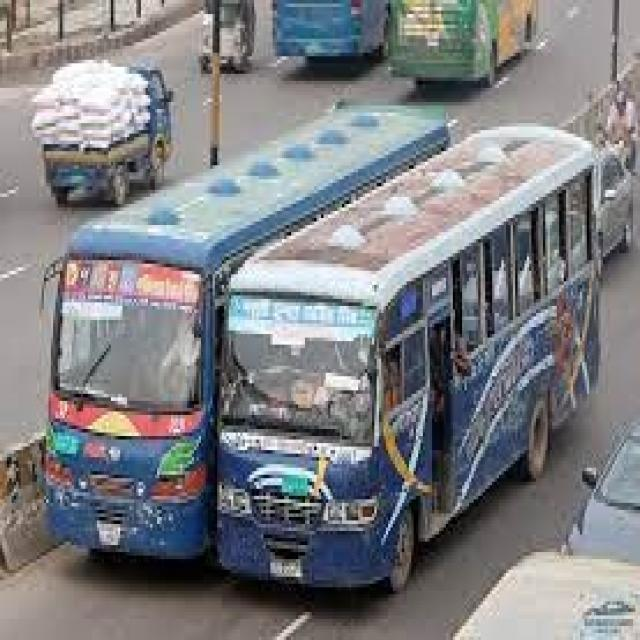bus: (213, 115, 629, 588), (41, 202, 214, 568)
